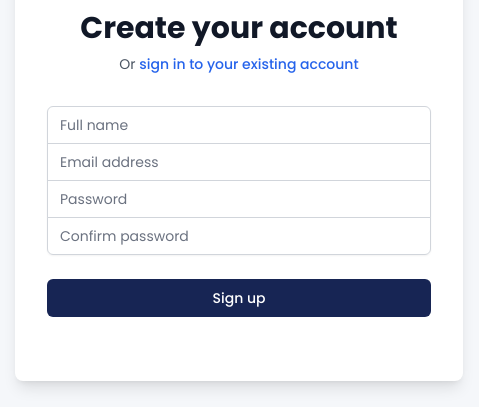
Test: Register Component › shows loading state during registration
Type "John Doe" into the field with placeholder "Full name".
click(239, 125); type("John Doe")  # box [47,106,431,144]
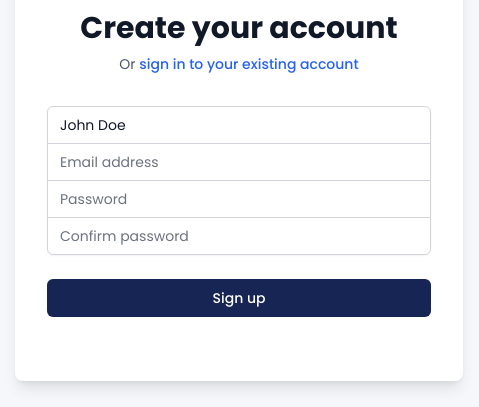
Type "john@example.com" into the field with placeholder "Email address".
click(239, 162); type("john@example.com")  # box [47,143,431,181]
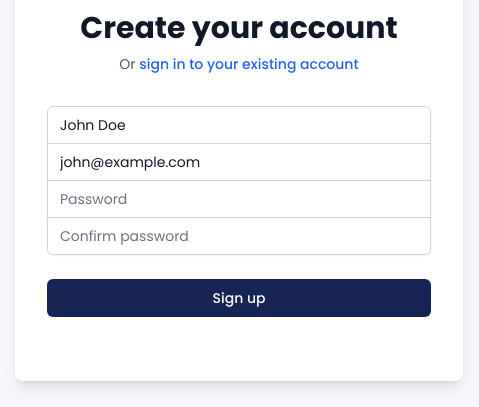
Type "password123" into the password field with placeholder "Password".
click(239, 199); type("password123")  # box [47,180,431,218]
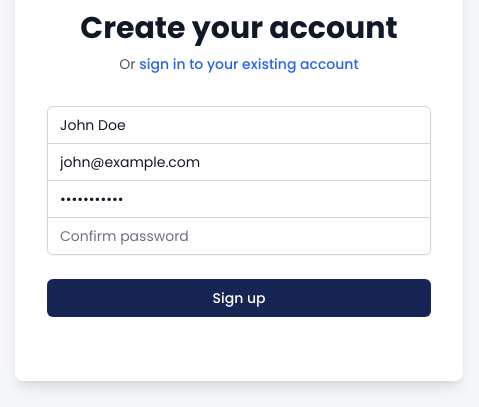
Type "password123" into the password field with placeholder "Confirm password".
click(239, 236); type("password123")  # box [47,217,431,255]
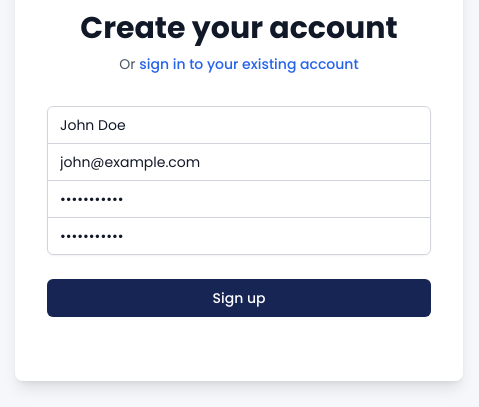
Click the button "Sign up".
click(239, 298)  # box [47,279,431,317]
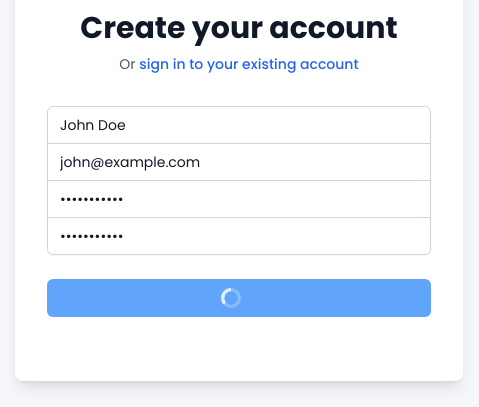
Expected: the button is disabled, [47,279,431,317]
Expected: the icon with test id "loading-spinner" is shown, [221,288,241,308]
